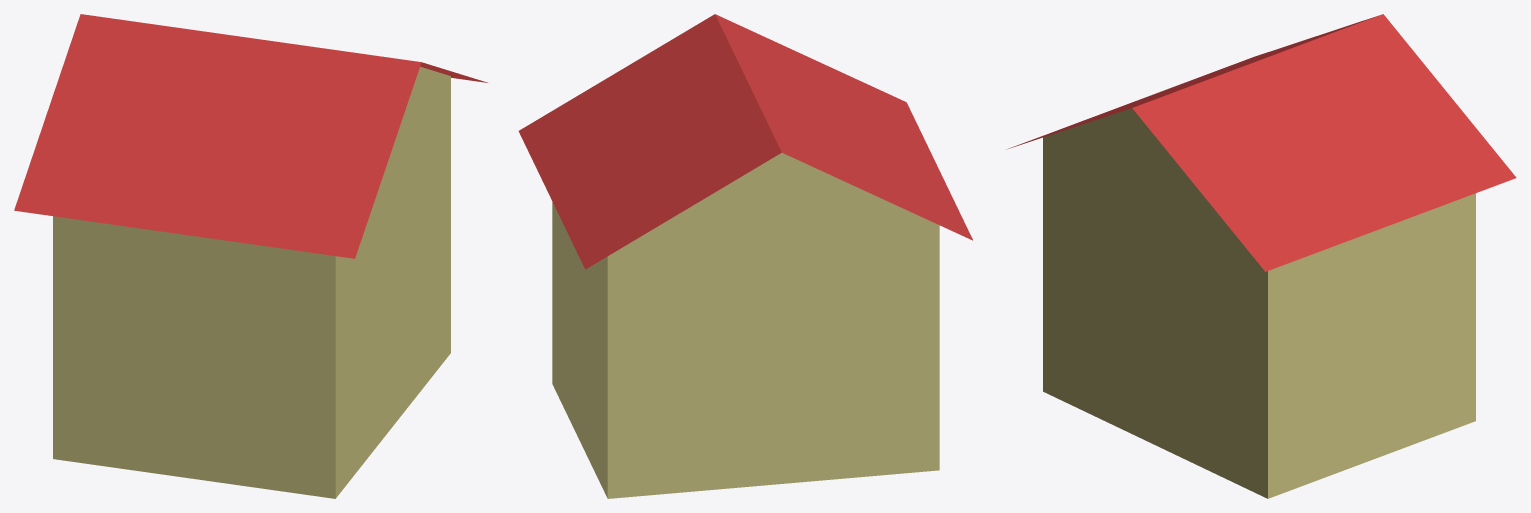
The picture shows the model from 3 angles, left to right: view 1: azimuth 30°, elevation 25°; view 2: azimuth 150°, elevation 25°; view 3: azimuth 270°, elevation 25°; orthographic projection. The views are drawn at different scales.
Visible parts, largest first — view 1: group_5, group_3, group_4; view 2: group_5, group_3, group_4; view 3: group_5, group_3, group_4.
Boxes of the visible parts, <box> form: group_5: <box>53,66,450,498</box>; group_3: <box>14,14,421,258</box>; group_4: <box>36,14,487,256</box>; group_5: <box>552,153,939,498</box>; group_3: <box>518,14,972,269</box>; group_4: <box>545,14,857,257</box>; group_5: <box>1043,108,1475,498</box>; group_3: <box>1007,14,1516,271</box>; group_4: <box>1133,15,1395,267</box>.
Bounding box in the file's own units: 18.03 × 17.84 × 13.18.
